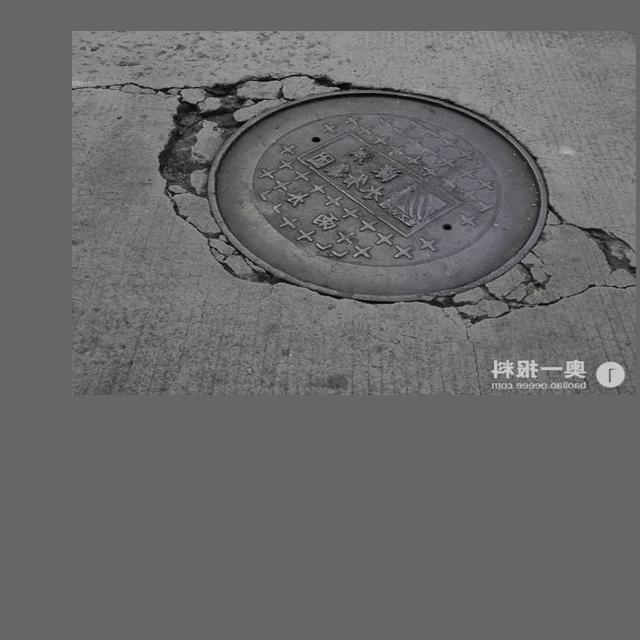circle: (150, 64, 625, 323)
